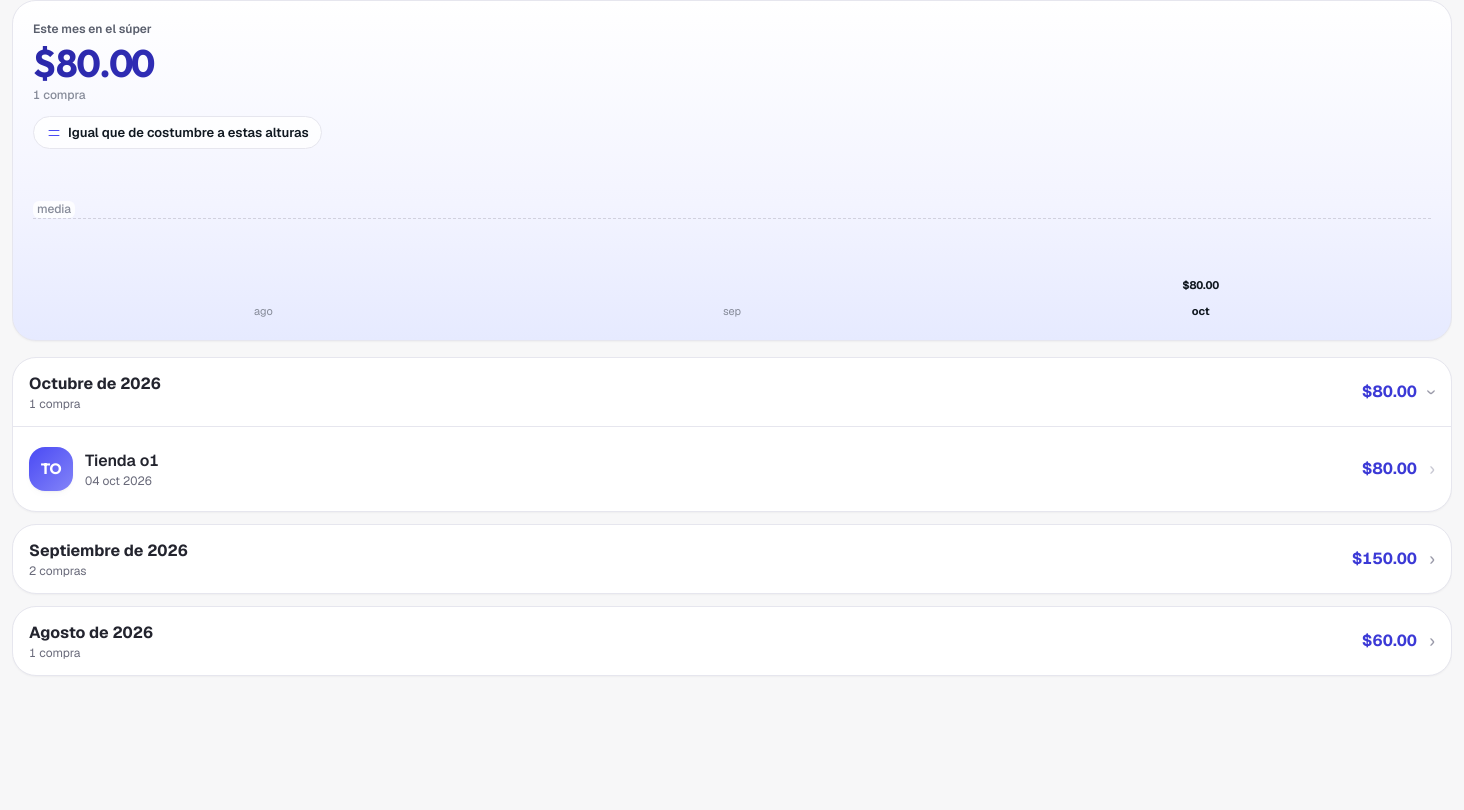
TripsScopedList — el ritmo del mes › tocar la barra de un mes cerrado lo abre en la lista
This screenshot has width=1464, height=810.
expect the text "Tienda a1" is not shown: met
Click the button named "ago:" at [263, 241], box [33,185,494,297]
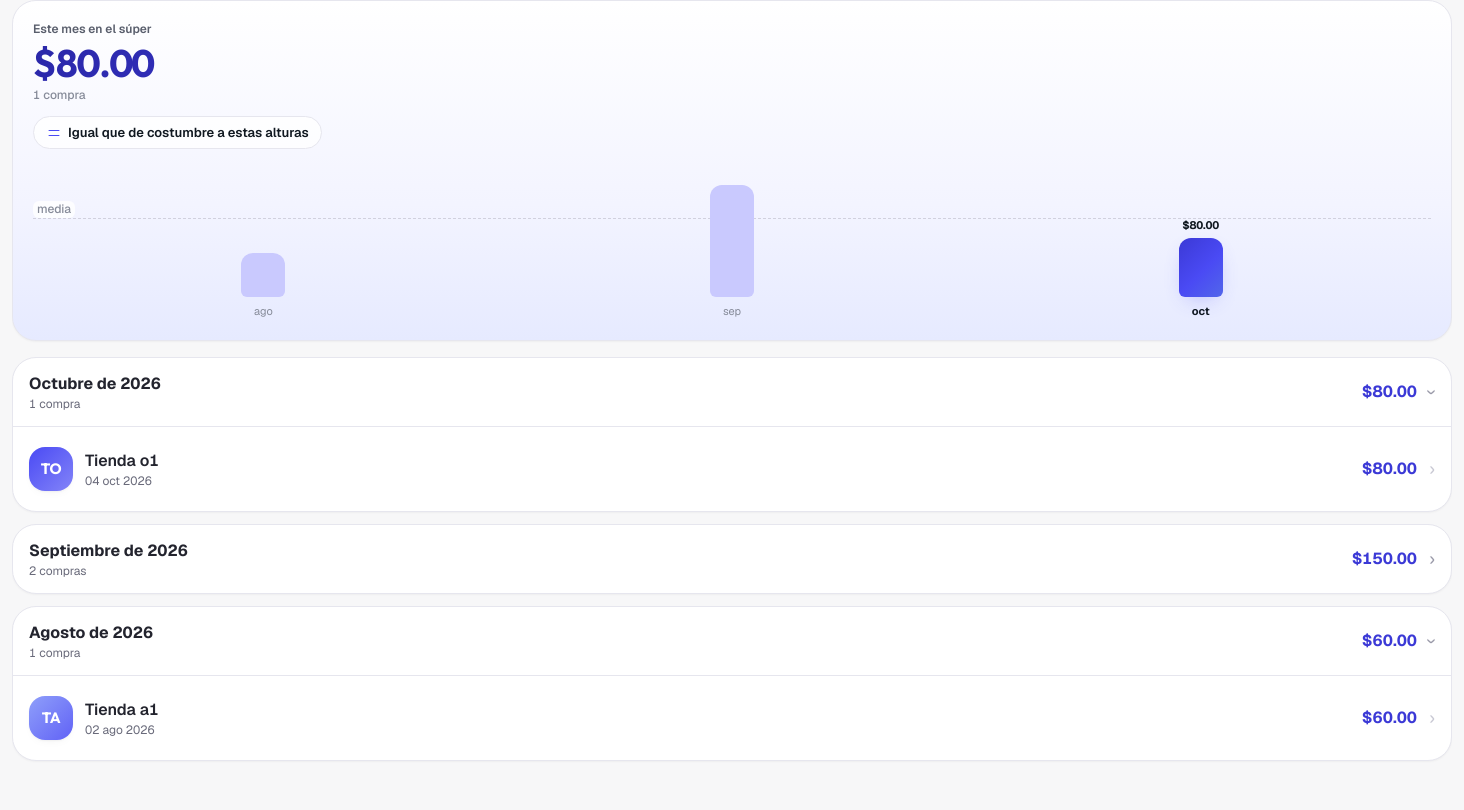
expect the text "Tienda a1" is shown: met, box [85,699,159,720]
